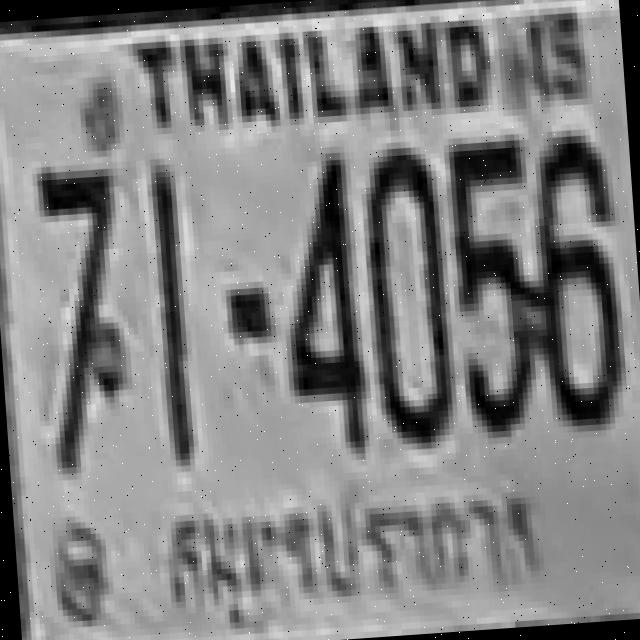0: (358, 142, 454, 446)
1: (146, 164, 198, 472)
4: (273, 148, 364, 448)
5: (442, 130, 540, 438)
6: (521, 130, 626, 424)
7: (29, 162, 130, 468)
SamutPrakan: (138, 462, 552, 634)
